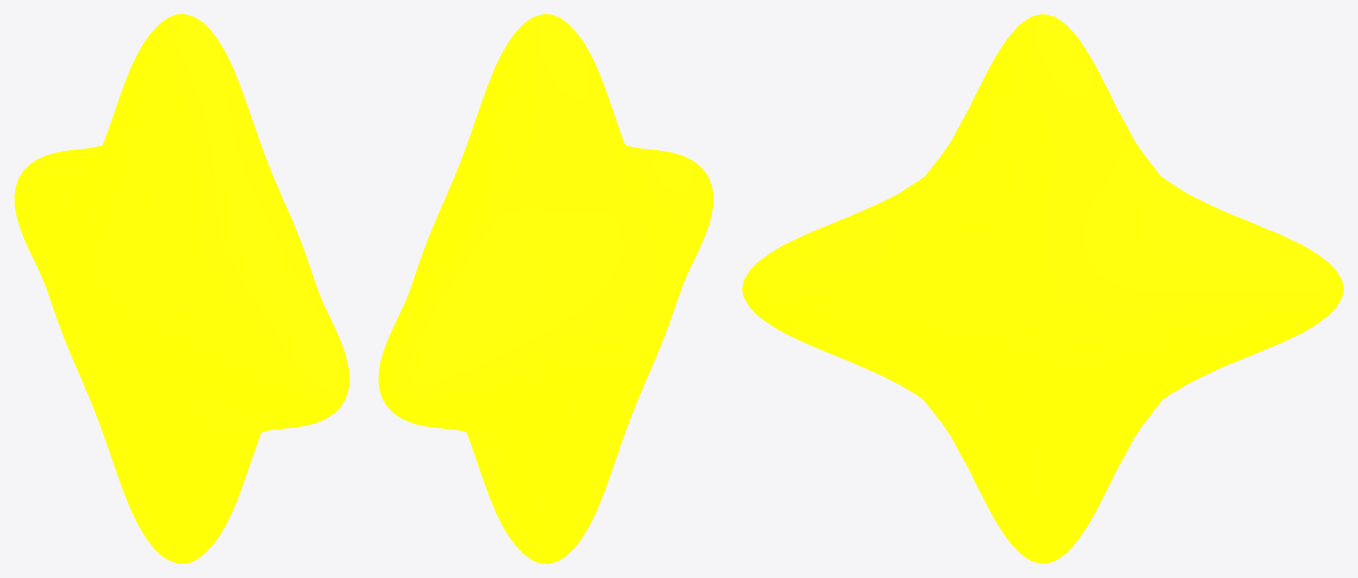
The model's file is calm_star_2560.glb.
3 views of the same model, side by side, from view 1: azimuth 30°, elevation 25°; view 2: azimuth 150°, elevation 25°; view 3: azimuth 270°, elevation 25° (orthographic).
Visible parts, largest first — view 1: calm_star_2560; view 2: calm_star_2560; view 3: calm_star_2560.
Part boxes in pixels (x1=…): calm_star_2560: x1=14, y1=14, x2=349, y2=563; calm_star_2560: x1=378, y1=14, x2=713, y2=563; calm_star_2560: x1=742, y1=14, x2=1343, y2=563.
Bounding box in the file's own units: 2.06 × 4.89 × 4.89.
